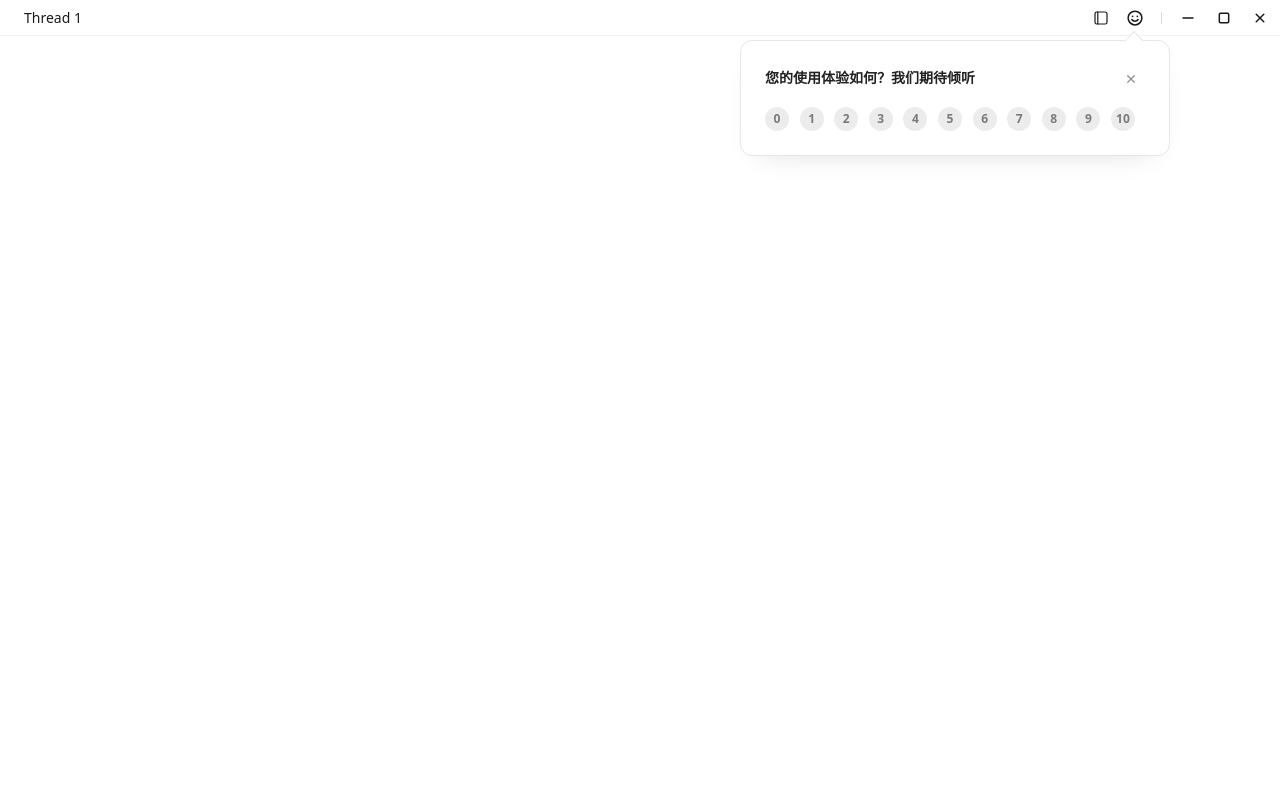
Test: RightContentHeader feedback popover › stores the close time in localStorage when the user dismisses the feedback popover with the close button
The image size is (1280, 800).
What coordinates should you click on to do the following:
click the button with class "ui-content-header-feedback-popover-close"
I would click on:
 (1131, 78)
Its box is [1117, 64, 1145, 92].
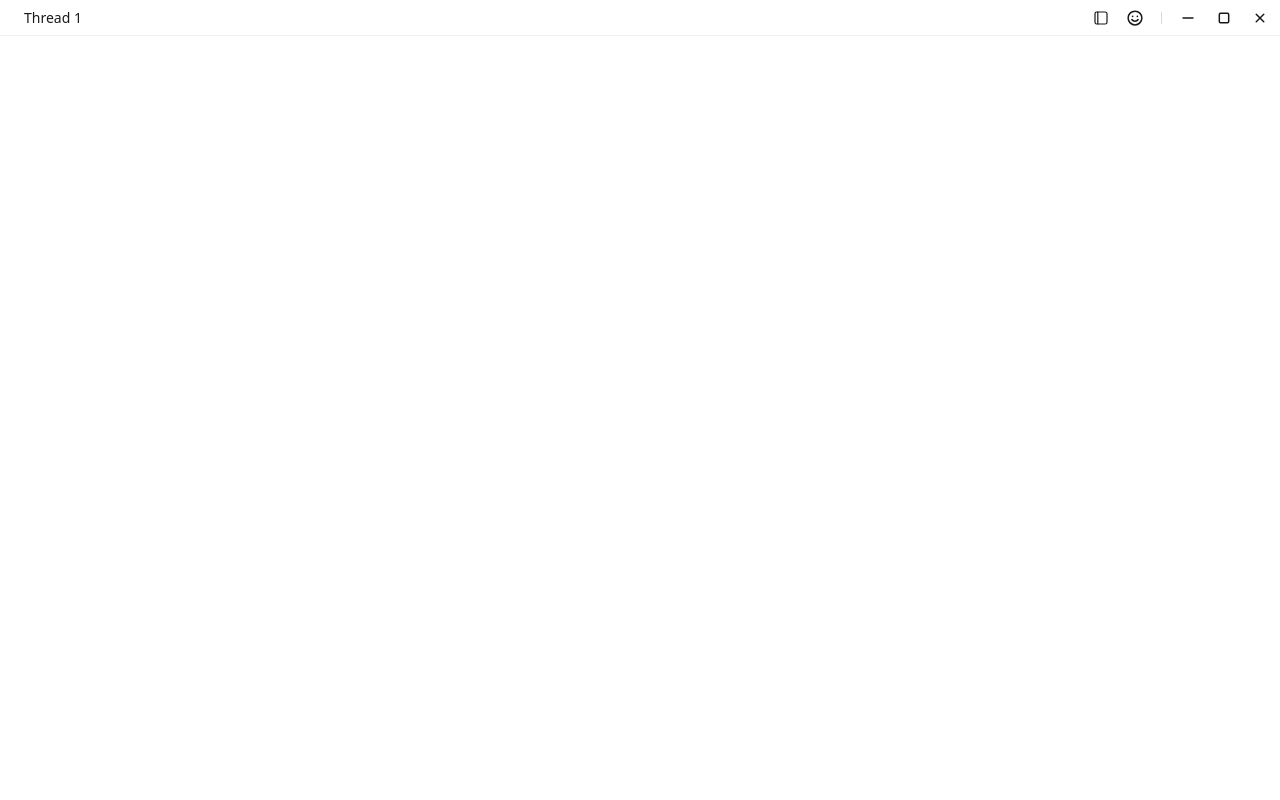
Expected: the dialog is gone
